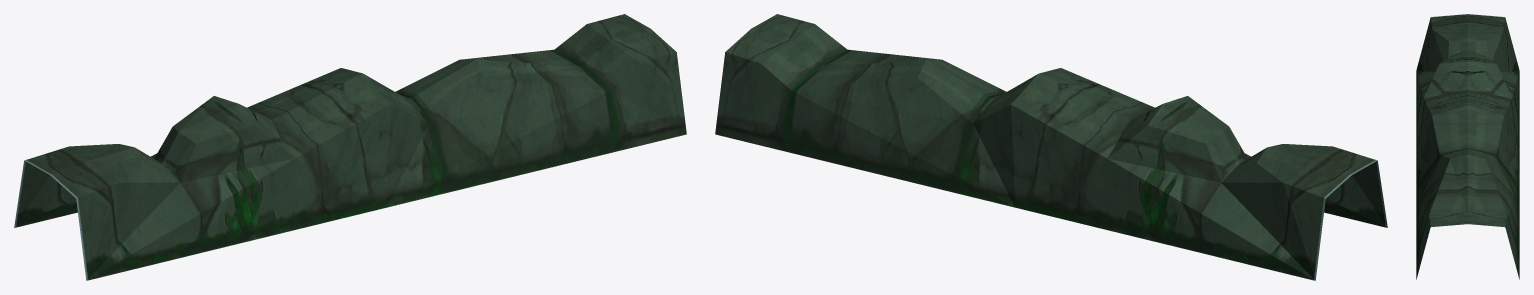
Rendered from stemple_cap_straight_02.fbx.
3 renders of one model, left to right at view 1: azimuth 30°, elevation 25°; view 2: azimuth 150°, elevation 25°; view 3: azimuth 270°, elevation 25°, orthographic. The views are drawn at different scales.
Visible parts, largest first — view 1: obj0.243; view 2: obj0.243; view 3: obj0.243.
Boxes of the visible parts, left/top/right/bottom form: obj0.243: left=14, top=14, right=686, bottom=280; obj0.243: left=715, top=14, right=1387, bottom=280; obj0.243: left=1416, top=14, right=1519, bottom=279.
Bounding box in the file's own units: 4 × 0.6672 × 0.8328.
